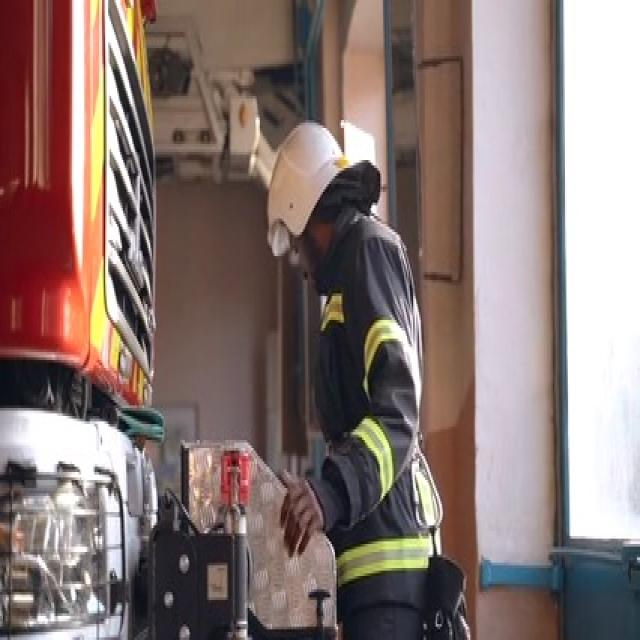Helmet_Wearer: (262, 110, 370, 270)
Jacket_Wearer: (304, 218, 445, 577)
Person: (259, 107, 465, 640)
